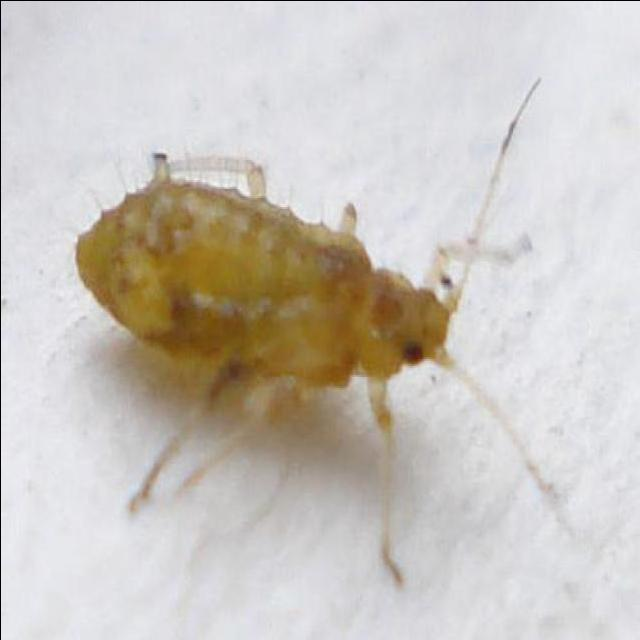aphid: (62, 92, 556, 548)
